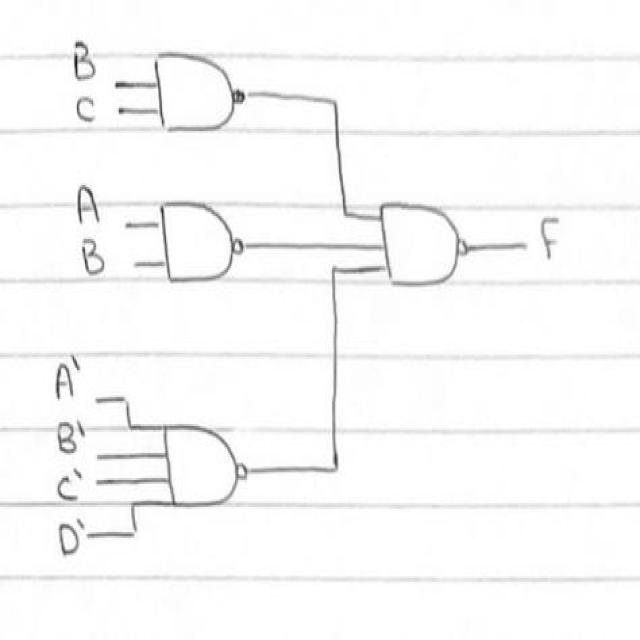NAND: (371, 177, 476, 307), (143, 35, 261, 146), (151, 404, 258, 524), (152, 180, 256, 292)
